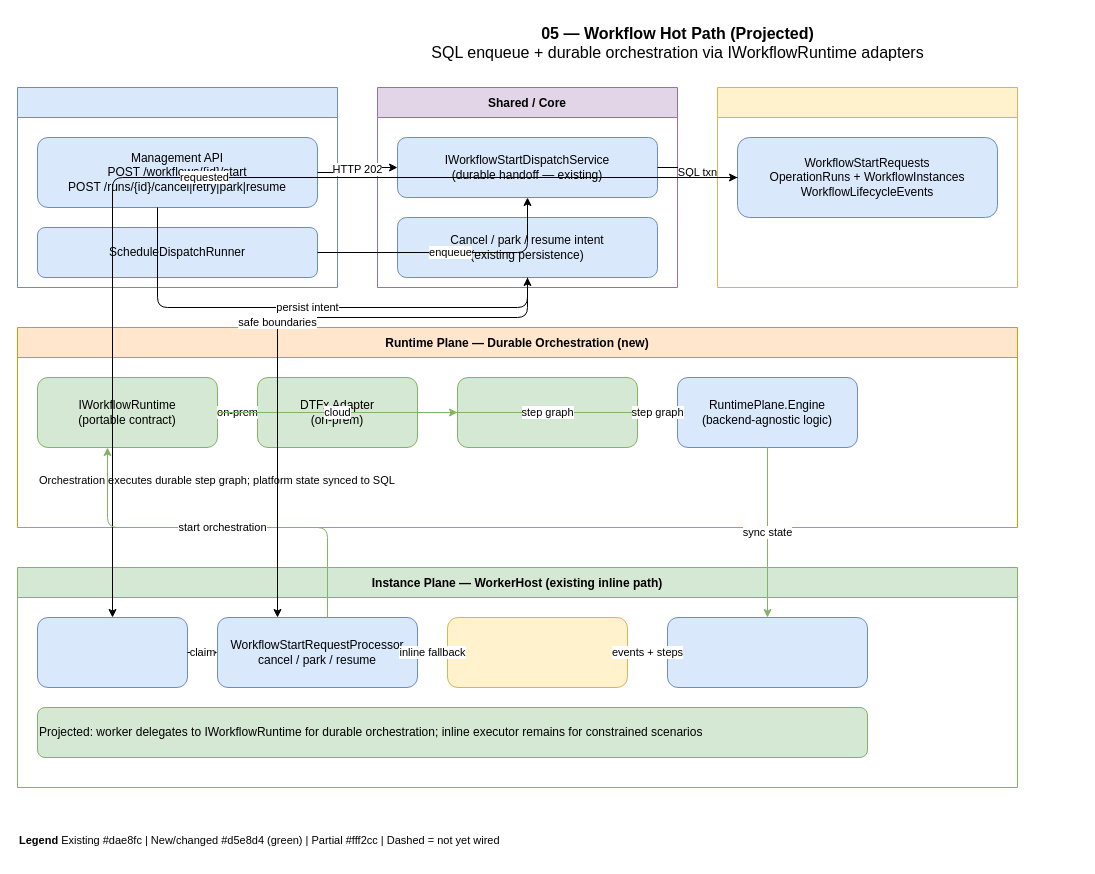
Some shapes in this 1095 by 874 pixel diagram are drawn without their labels. The shapes that lost their labels are listed below. From the top down, each one's box as (x1, y1, x2, y2) in pixels, then its label:
(16, 86, 338, 288): Control Plane
(716, 86, 1018, 288): Foundation — Persistence
(456, 376, 638, 448): Durable Functions Adapter (cloud)
(36, 616, 188, 688): StartRequestWorker claim / lease
(446, 616, 628, 688): DefaultWorkflowExecutor (inline fallback / dev)
(666, 616, 868, 688): WorkflowLifecycleEvents WorkflowStepInstances
